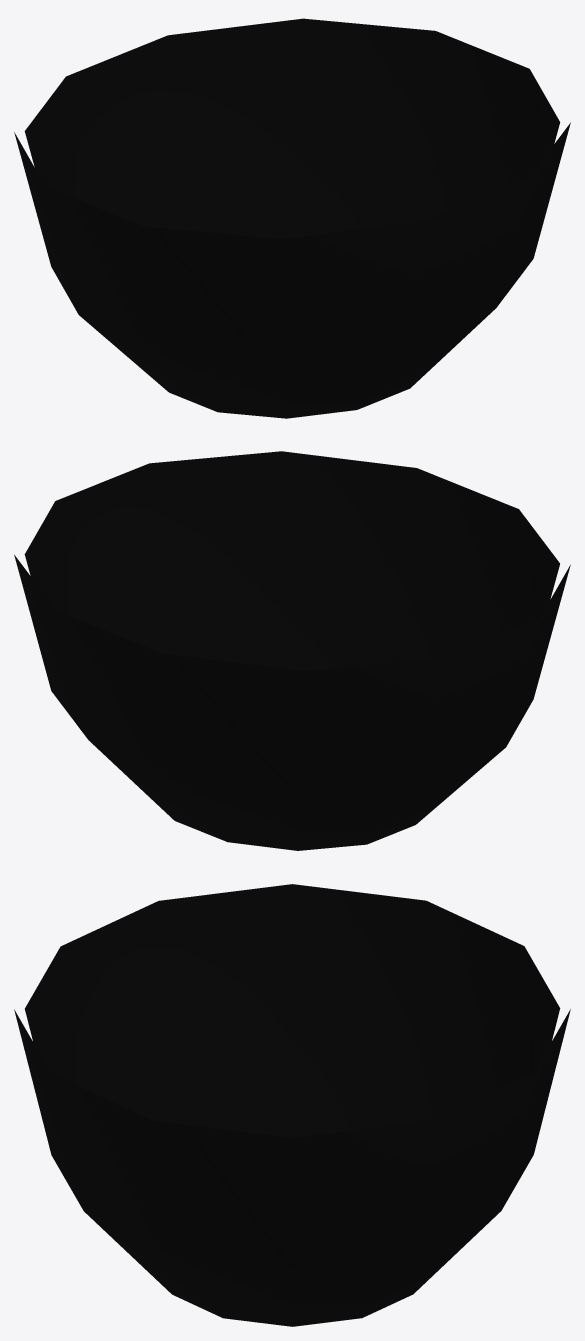
3 views of the same model, one above another, from view 1: azimuth 30°, elevation 25°; view 2: azimuth 150°, elevation 25°; view 3: azimuth 270°, elevation 25° (orthographic). The views are drawn at different scales.
Parts seen in each view (by area): view 1: it68; view 2: it68; view 3: it68.
Part boxes in pixels (<box>): it68: <box>14,18,570,418</box>; it68: <box>14,451,570,850</box>; it68: <box>14,884,570,1326</box>.
Size of the model in its own units: 0.6562 by 0.3463 by 0.5966.
1 material, 1 textured.
